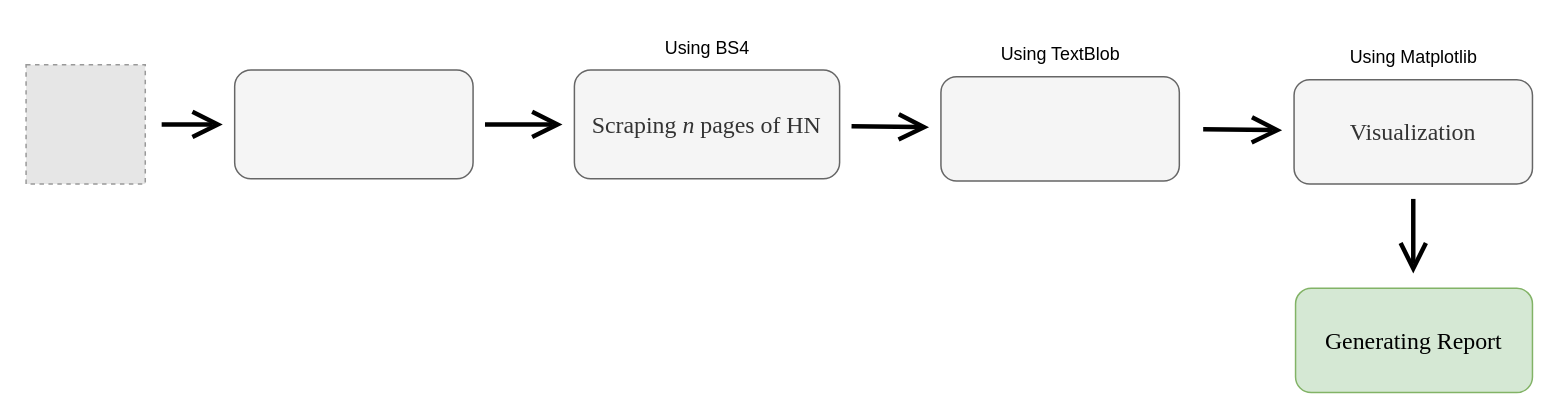
The diagram is 1559 pixels wide and 419 high, and some of its shapes have lost their labels. Grey dashed boxes stand in for pictures. The box of each missing label's shape, as (x1, y1, x2, y2) in pixels:
Prompting user for preferences: (233, 69, 473, 179)
Sentiment Analysis: (939, 75, 1179, 181)
